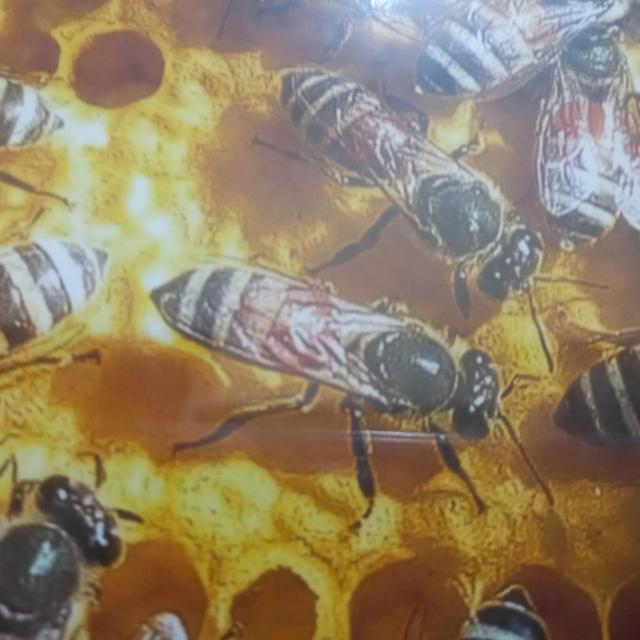honeybee: (143, 228, 550, 534), (238, 17, 554, 320), (397, 0, 640, 109), (541, 14, 640, 262), (0, 462, 132, 640), (0, 232, 124, 376), (554, 344, 640, 465), (461, 578, 562, 640), (0, 84, 81, 161)
